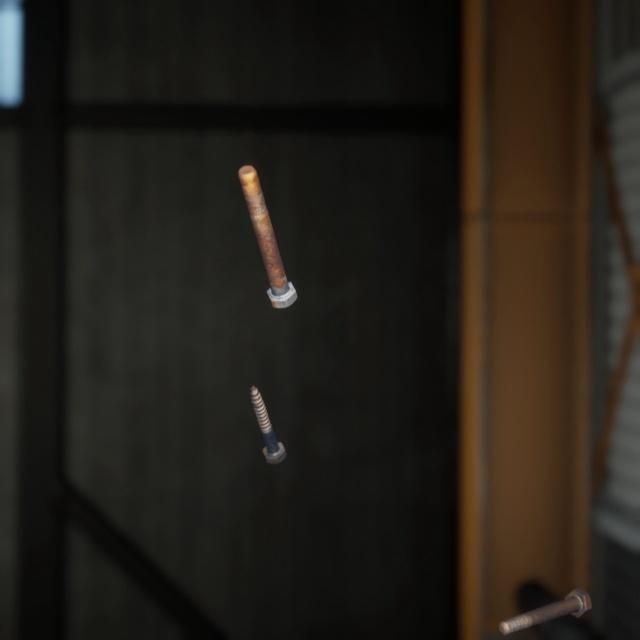bolt: (233, 144, 301, 296), (492, 560, 596, 615), (245, 360, 291, 448)
